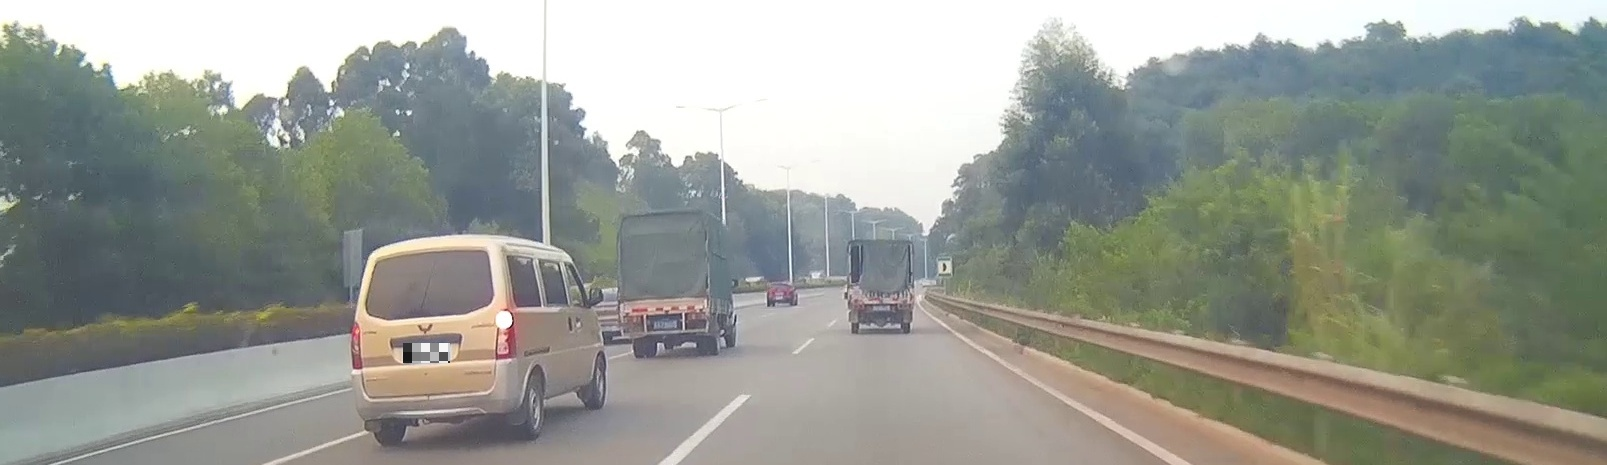L_light: (351, 322, 363, 369), (624, 316, 642, 323), (853, 304, 865, 310)
R_light: (495, 309, 517, 360), (686, 312, 705, 319), (899, 303, 910, 309)
T_light: (410, 252, 439, 260), (654, 300, 673, 306), (876, 292, 888, 296)
day-no: (618, 207, 710, 356), (847, 239, 913, 333)
day-right: (351, 233, 520, 446)
plate_1: (403, 343, 450, 363)
